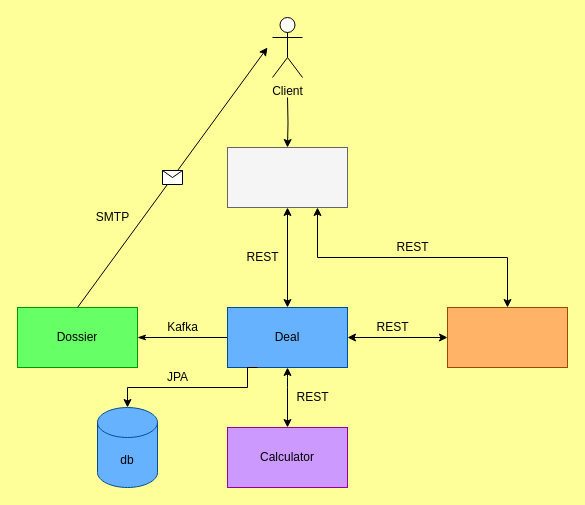
Image size: 585x505. Some labels were removed from this diagram. Each missing label, with the centre of its shape:
"Gateway" goes at (x=287, y=177).
"Statement" goes at (x=507, y=337).
